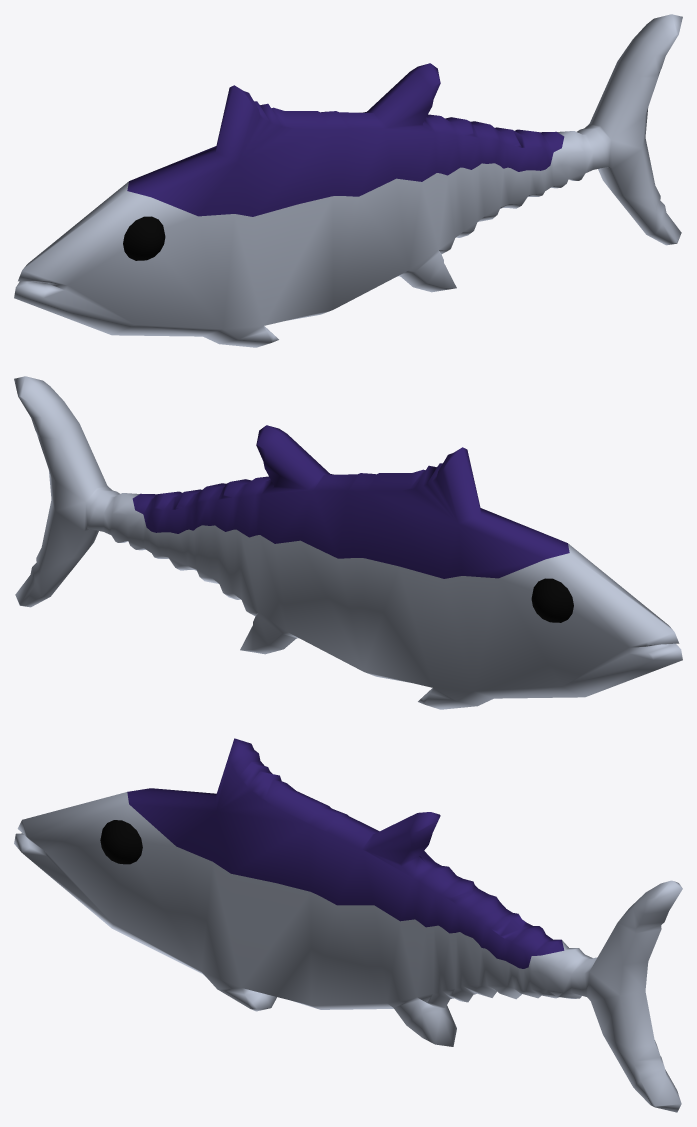
File: fish.fbx
3 views of the same model, one above another, from view 1: azimuth 30°, elevation 25°; view 2: azimuth 150°, elevation 25°; view 3: azimuth 330°, elevation 25° (orthographic).
Visible parts, largest first — view 1: fish; view 2: fish; view 3: fish.
Part boxes in pixels (x1,y1,x2,y2): fish: (14,14,682,347); fish: (14,376,682,709); fish: (14,738,682,1112).
Bounding box in the file's own units: 94.97 × 36.34 × 10.13.
